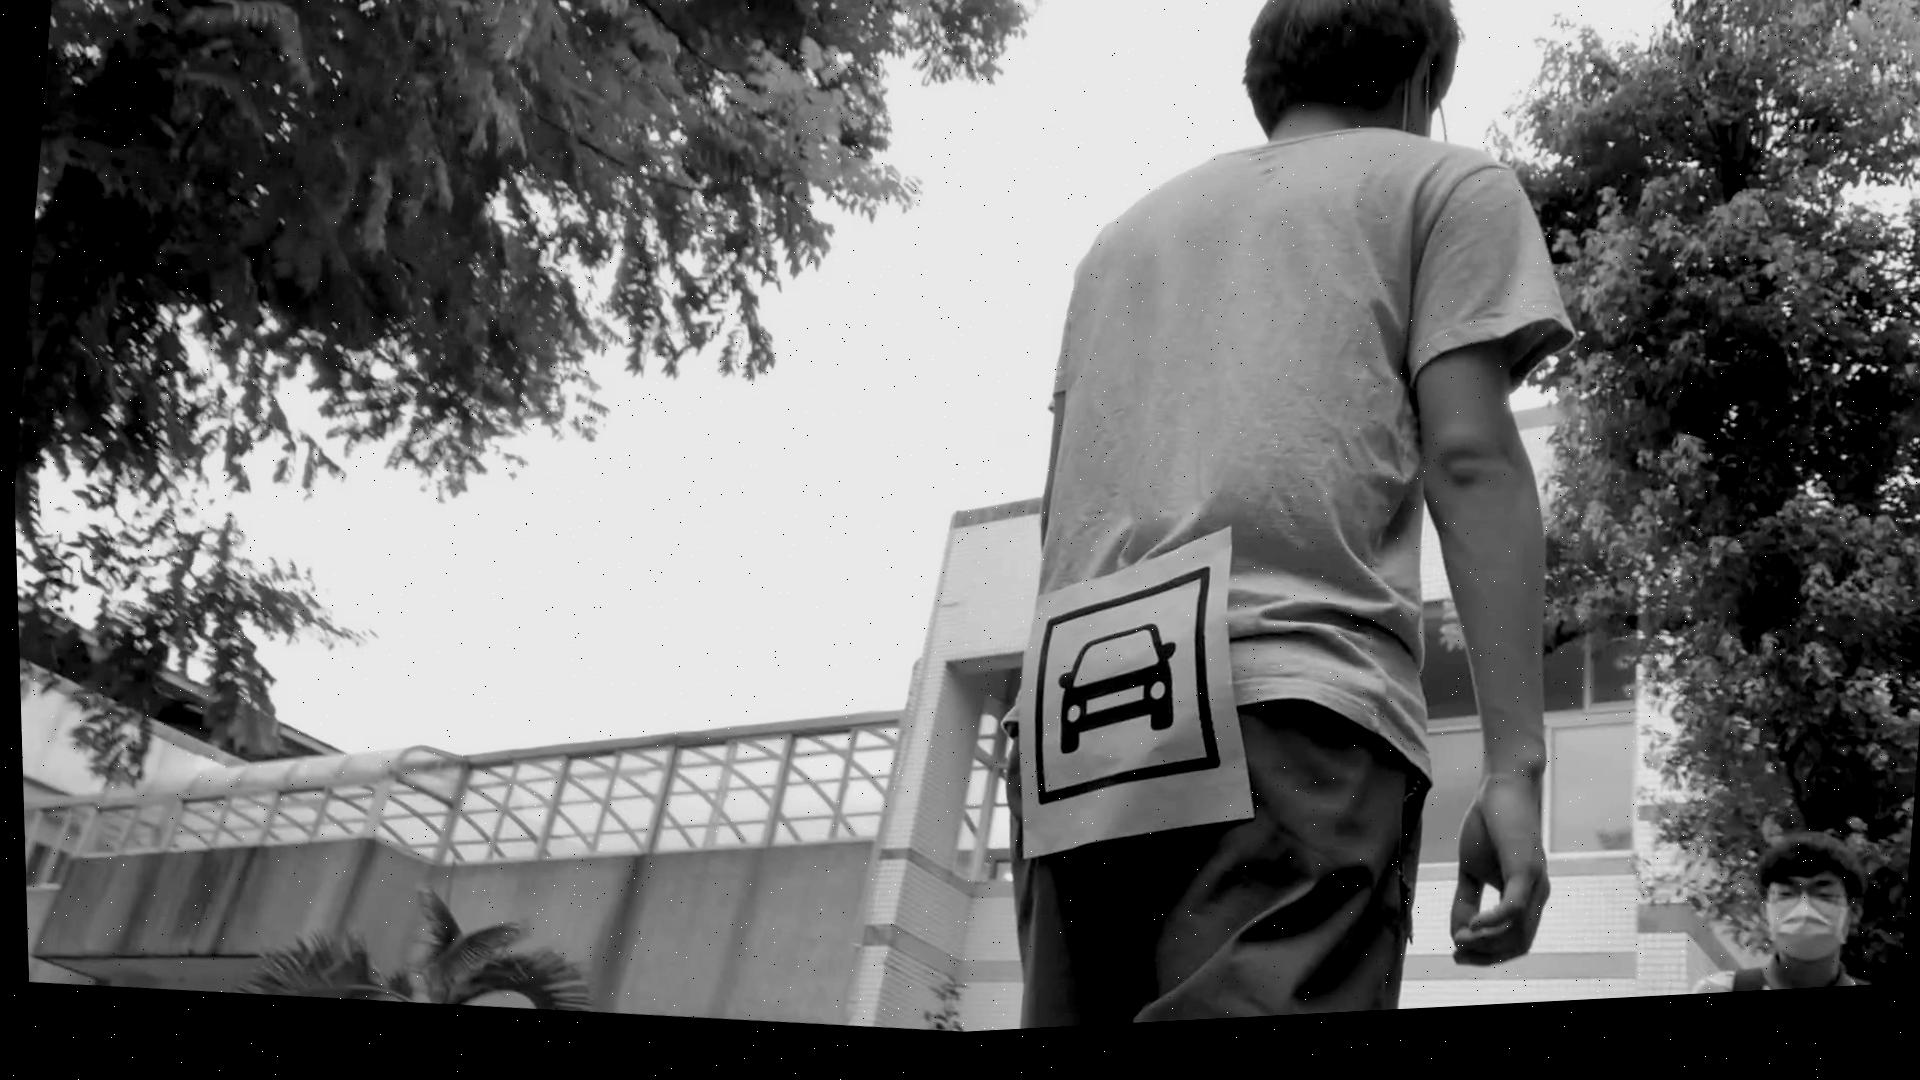car_img: (1013, 558, 1238, 837)
